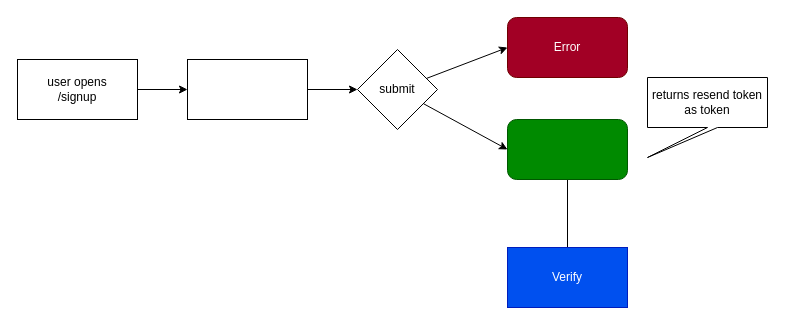
Image size: 785x325. Some labels were removed from this diagram. The shapes that lost their labels are listed below. From the top down, each one's centre as x and y in pixels, then its label:
[247,89]: Fills data
[567,149]: success
